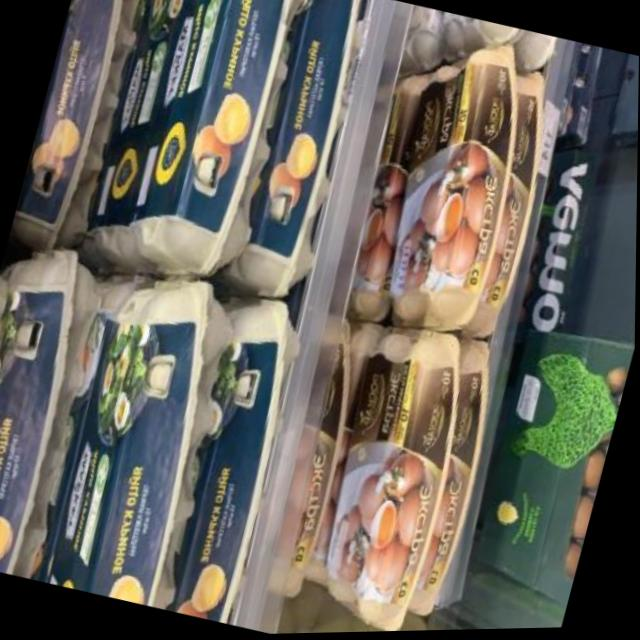Egg: (34, 258, 255, 614), (109, 0, 321, 300), (298, 314, 484, 635), (366, 25, 544, 345), (157, 286, 318, 628), (225, 0, 382, 304), (0, 231, 124, 582), (8, 0, 155, 253), (72, 0, 204, 266)
